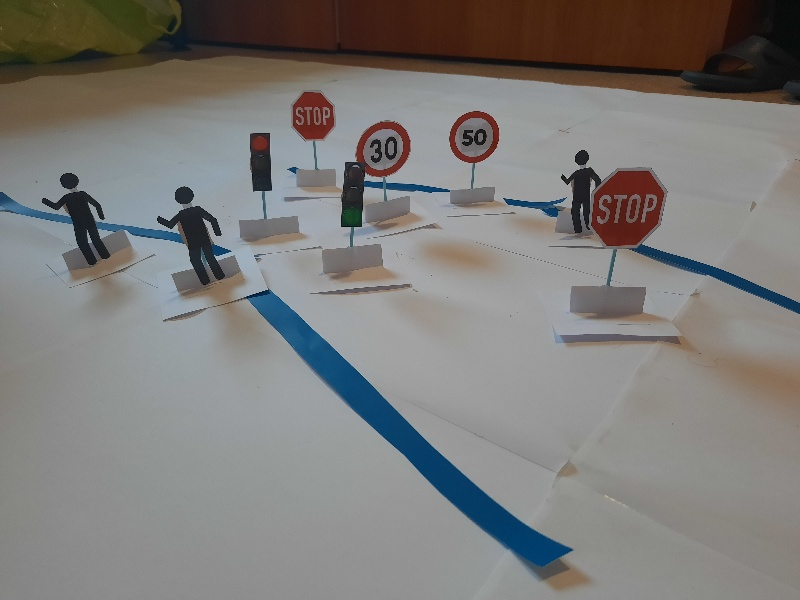Green: (338, 162, 362, 222)
Limit 30: (359, 123, 409, 172)
Limit 50: (449, 111, 498, 163)
Person: (162, 186, 227, 288), (43, 172, 111, 259), (565, 152, 601, 231)
Red: (252, 135, 273, 189)
Stop: (590, 169, 665, 249), (292, 90, 334, 141)
